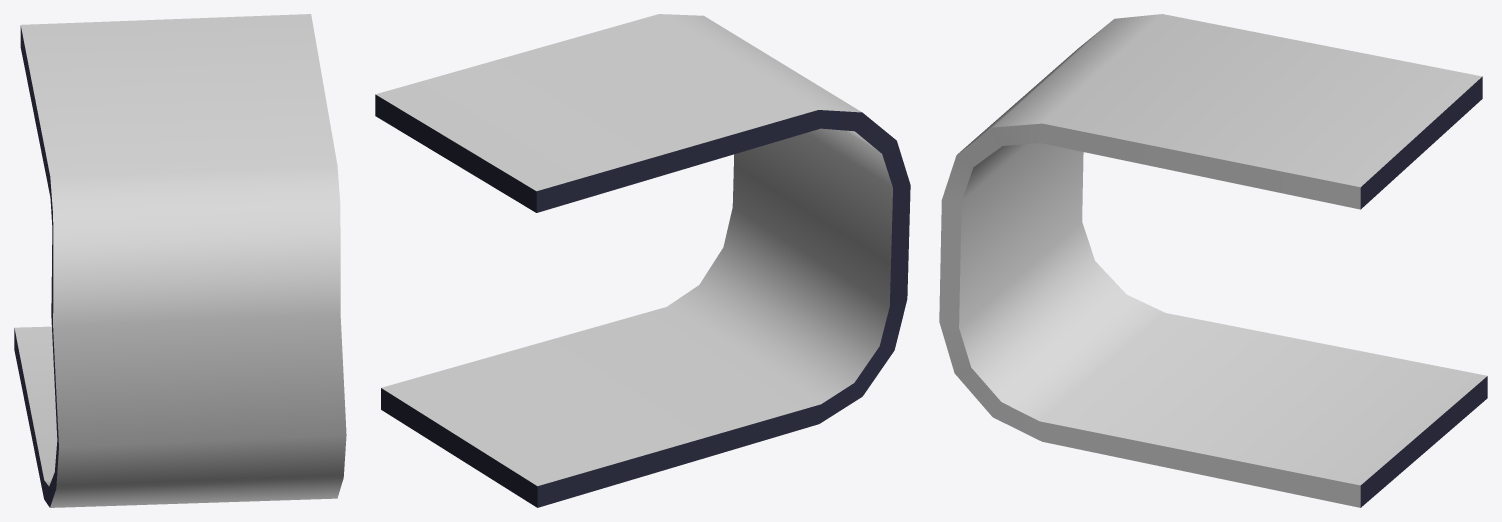
The model's file is DESK.glb.
3 renders of one model, left to right at view 1: azimuth 30°, elevation 25°; view 2: azimuth 150°, elevation 25°; view 3: azimuth 270°, elevation 25°, orthographic. The views are drawn at different scales.
Parts seen in each view (by area): view 1: DESK; view 2: DESK; view 3: DESK.
Part boxes in pixels (x1,y1,x2,y2): DESK: (14,14,346,507); DESK: (375,14,910,507); DESK: (939,14,1487,507).
Size of the model in its own units: 1.58 by 1.21 by 1.86.
